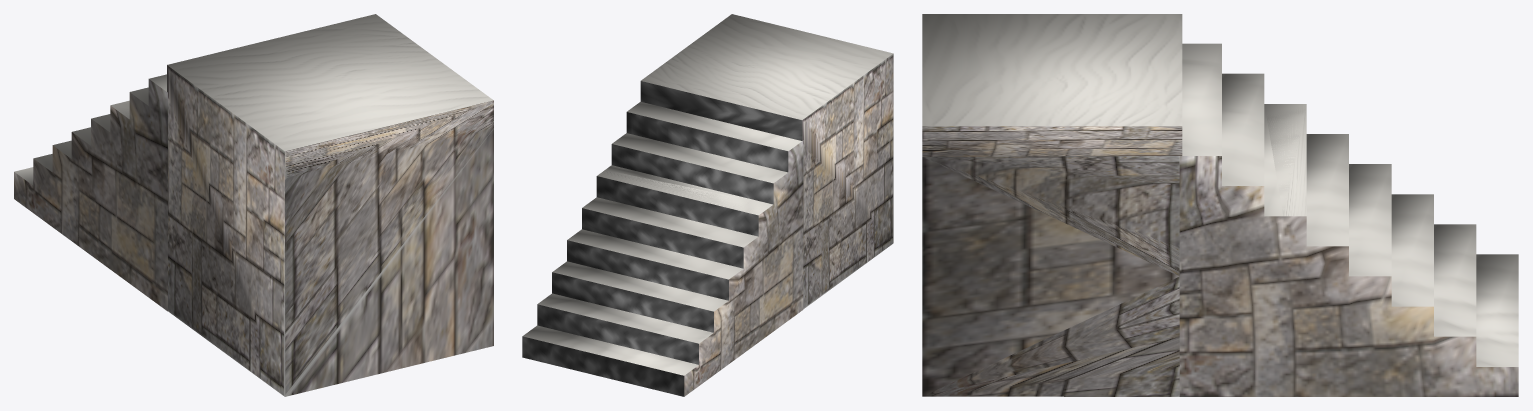
The model's file is escales.fbx.
3 renders of one model, left to right at view 1: azimuth 30°, elevation 25°; view 2: azimuth 150°, elevation 25°; view 3: azimuth 270°, elevation 25°, orthographic. The views are drawn at different scales.
Parts seen in each view (by area): view 1: Cube_001; view 2: Cube_001; view 3: Cube_001.
Boxes of the visible parts, bbox=[...] form: Cube_001: bbox=[14, 14, 493, 396]; Cube_001: bbox=[522, 14, 893, 396]; Cube_001: bbox=[922, 14, 1518, 396].
Bounding box in the file's own units: 5.72 × 6.43 × 12.84.
Materials: 1 (1 with a texture image).
